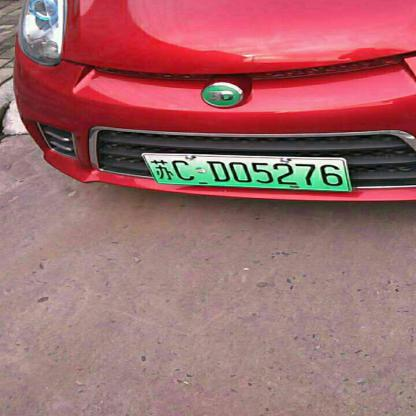lp: (140, 154, 352, 192)
